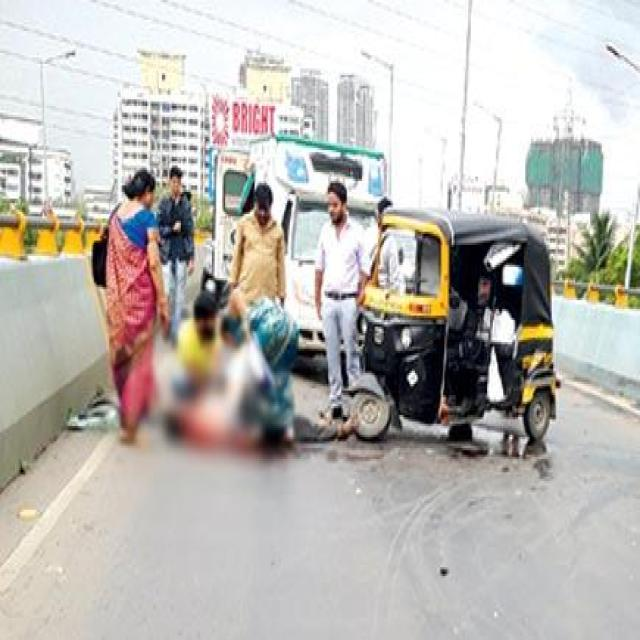autorickshaw: (352, 208, 558, 440)
emergency: (212, 133, 386, 352)
